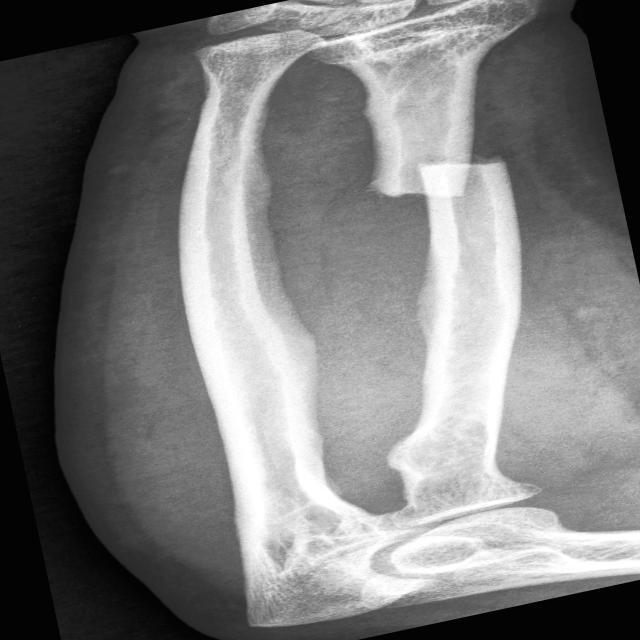Fracture Dislocation: (383, 132, 519, 222)
